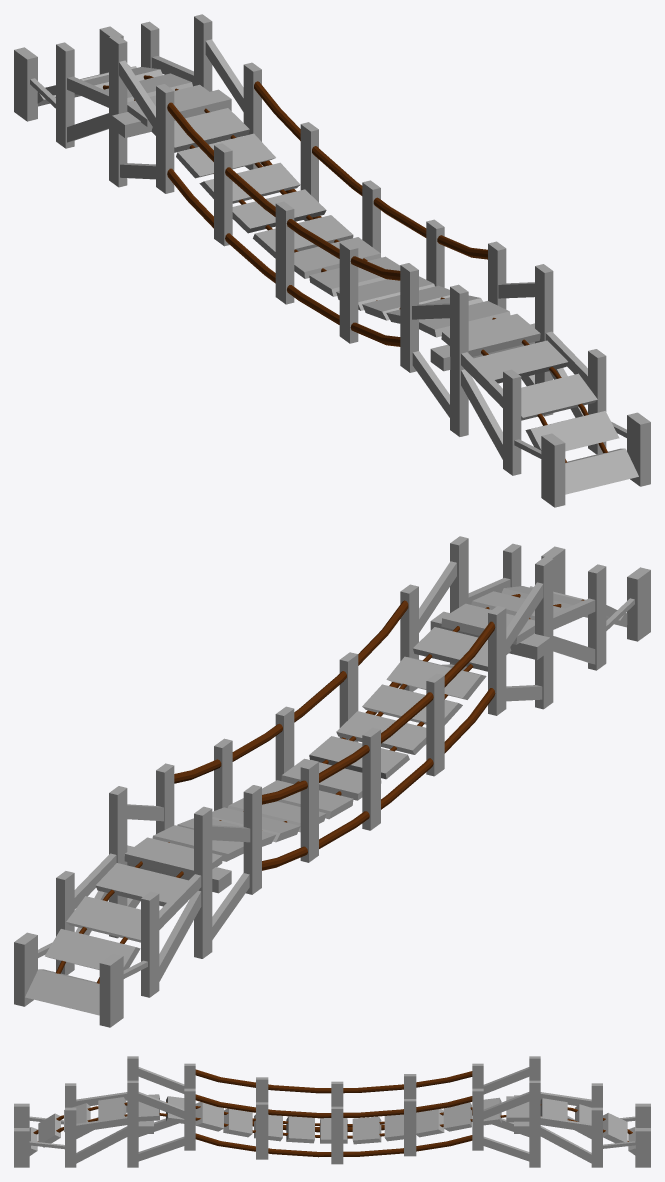
Rendered from MiddleBridge.fbx.
3 views of the same model, one above another, from view 1: azimuth 30°, elevation 25°; view 2: azimuth 150°, elevation 25°; view 3: azimuth 270°, elevation 25° (orthographic). The views are drawn at different scales.
Visible parts, largest first — view 1: pCylinder194; view 2: pCylinder194; view 3: pCylinder194.
Boxes of the visible parts, box(x1,y1,x2,y2) form: pCylinder194: box(14, 14, 650, 507); pCylinder194: box(14, 536, 650, 1027); pCylinder194: box(14, 1056, 650, 1167).
Bounding box in the file's own units: 518 × 664 × 4541.
